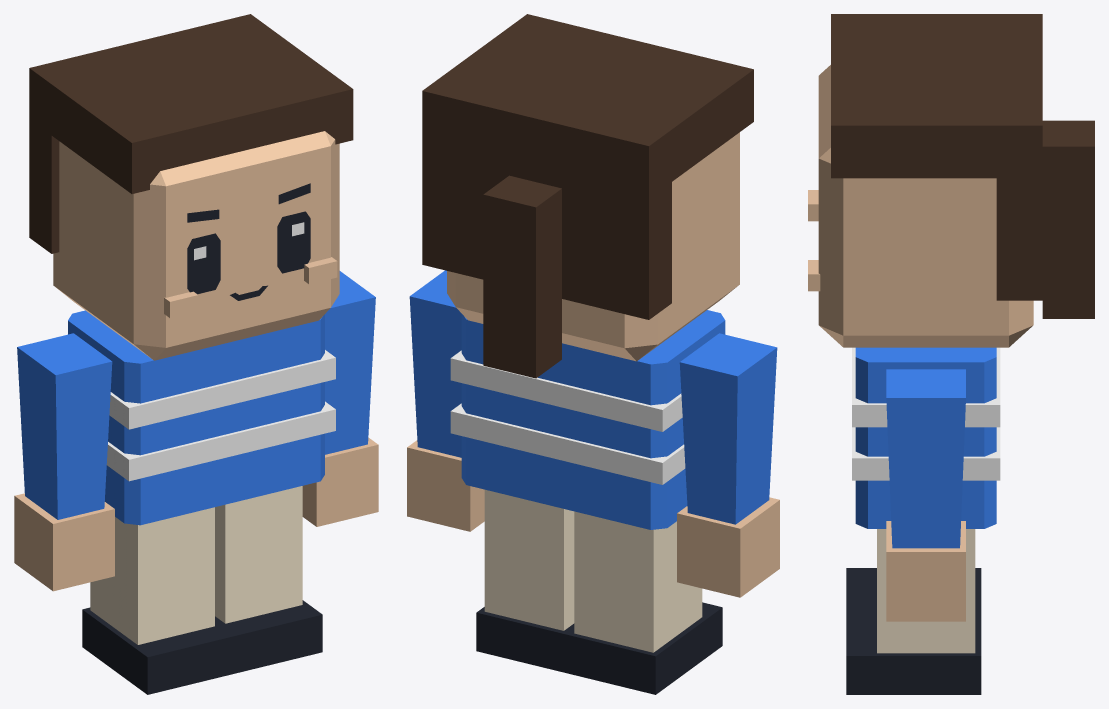
The model's file is townsperson-stripes.glb.
3 renders of one model, left to right at view 1: azimuth 30°, elevation 25°; view 2: azimuth 150°, elevation 25°; view 3: azimuth 270°, elevation 25°, orthographic. The views are drawn at different scales.
Parts seen in each view (by area): view 1: head, hair, body, arm_R, leg_R, leg_L, shoe_R, hand_R, arm_L, face, hand_L, shoe_L; view 2: hair, body, head, arm_R, leg_R, leg_L, hand_R, arm_L, shoe_R, hand_L, shoe_L; view 3: hair, head, body, arm_L, shoe_L, hand_L, leg_L, shoe_R, face.
Boxes of the visible parts, bbox=[...] form: head: bbox=[53, 131, 339, 360]; hair: bbox=[29, 14, 353, 253]; body: bbox=[68, 310, 335, 525]; arm_R: bbox=[17, 333, 112, 519]; leg_R: bbox=[90, 507, 214, 644]; leg_L: bbox=[215, 486, 302, 623]; shoe_R: bbox=[82, 607, 234, 694]; hand_R: bbox=[14, 493, 114, 591]; arm_L: bbox=[325, 271, 375, 454]; face: bbox=[164, 183, 337, 318]; hand_L: bbox=[302, 437, 378, 526]; shoe_L: bbox=[215, 600, 322, 673]; hair: bbox=[422, 14, 753, 378]; body: bbox=[450, 310, 725, 529]; head: bbox=[447, 132, 739, 361]; arm_R: bbox=[679, 333, 777, 524]; leg_R: bbox=[574, 511, 702, 652]; leg_L: bbox=[484, 489, 574, 630]; hand_R: bbox=[677, 497, 779, 597]; arm_L: bbox=[409, 270, 461, 457]; shoe_R: bbox=[566, 602, 722, 694]; hand_L: bbox=[407, 440, 484, 531]; shoe_L: bbox=[476, 607, 574, 672]; hair: bbox=[831, 14, 1094, 318]; head: bbox=[818, 65, 1033, 347]; body: bbox=[852, 347, 1000, 528]; arm_L: bbox=[886, 369, 965, 548]; shoe_L: bbox=[846, 612, 981, 694]; hand_L: bbox=[886, 521, 965, 621]; leg_L: bbox=[877, 529, 975, 653]; shoe_R: bbox=[846, 568, 981, 611]; face: bbox=[808, 190, 820, 291].
Size of the model in its own units: 1.26 by 2.09 by 0.935.
